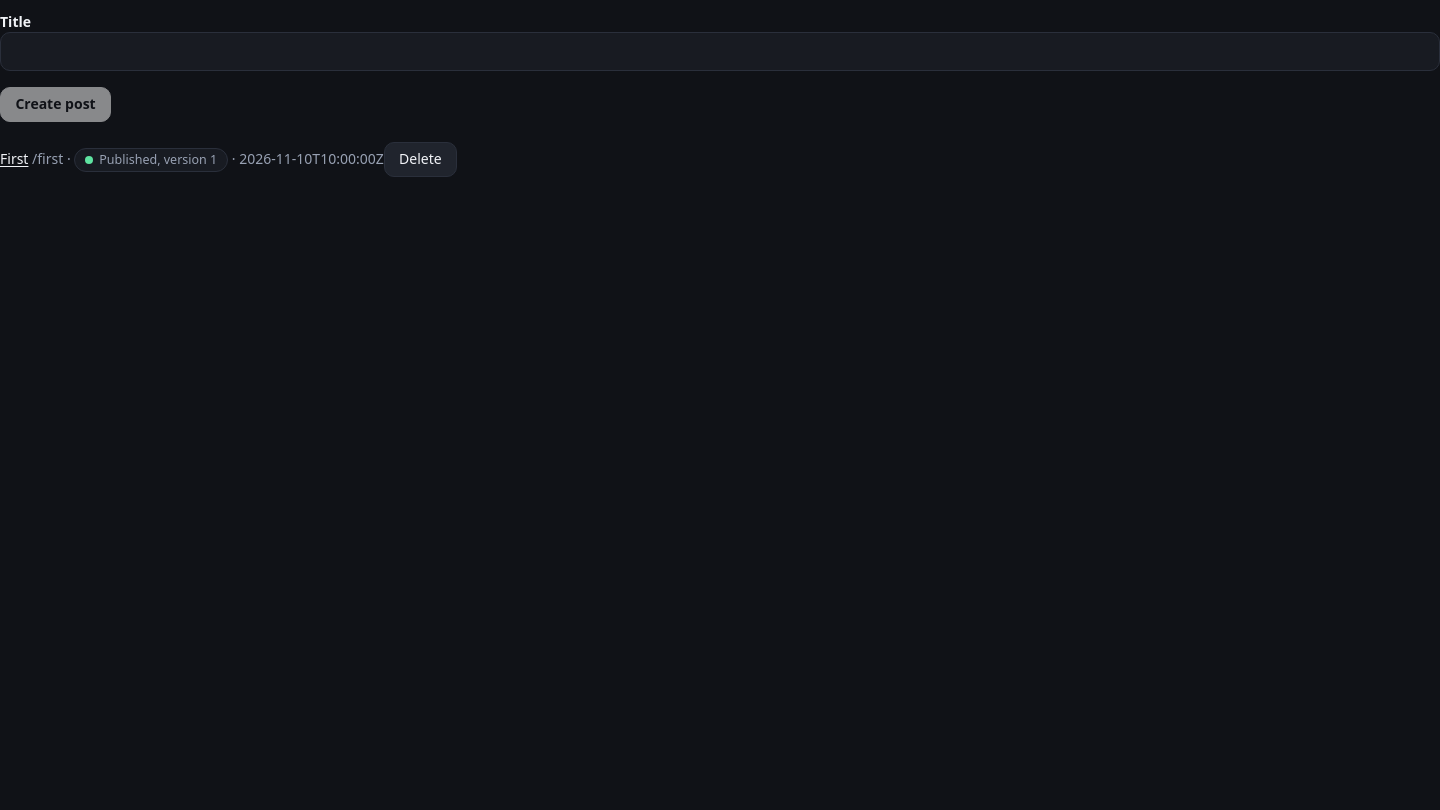
Test case: a post that is published now asks once, in the post dialog, and deletes with confirm
This screenshot has width=1440, height=810.
Click the button with aria-label "Delete First" at (420, 159), box [384,142,457,177]
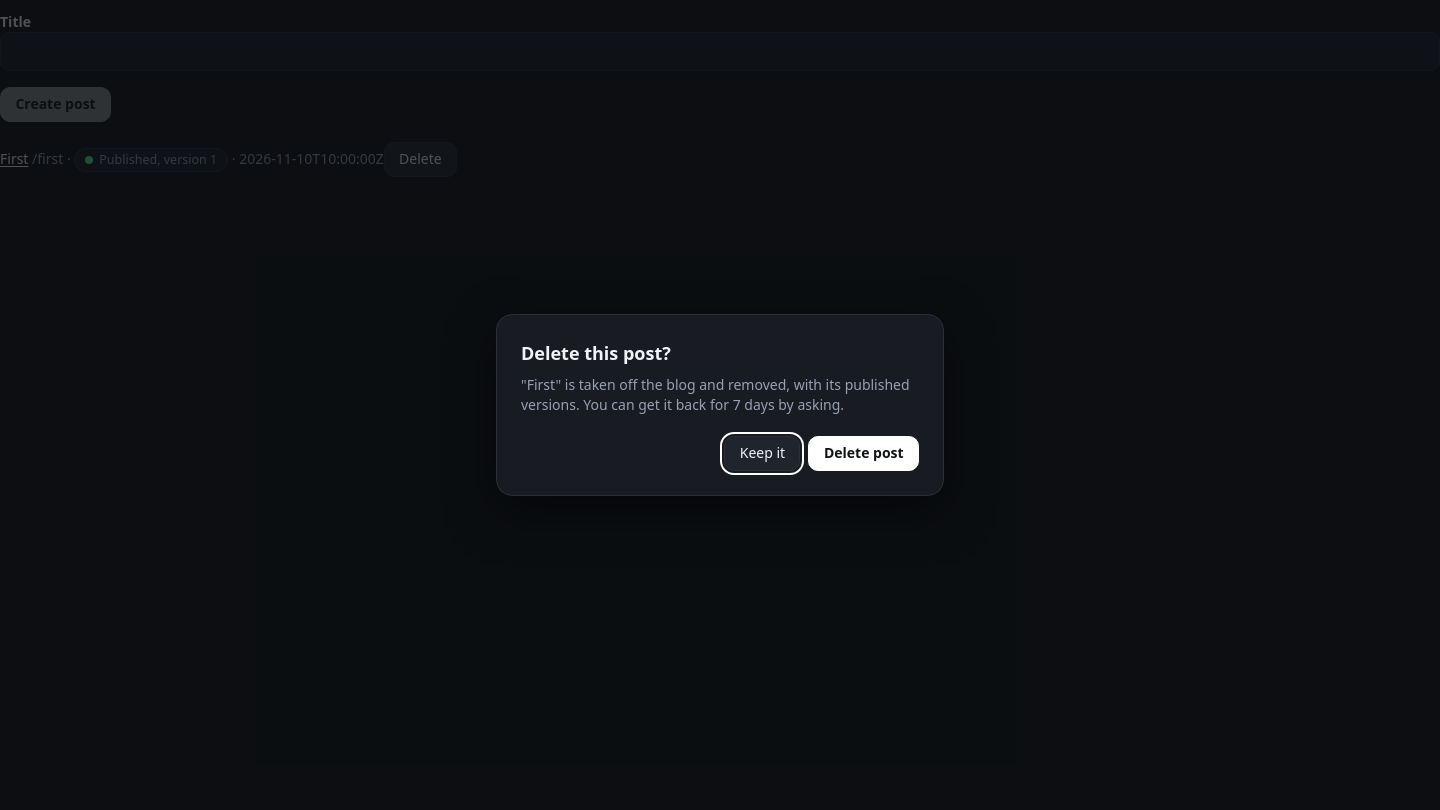
Result: the dialog "Delete this post?" shows "\"First\" is taken off the blog and removed, with its published versions. You can get it back for 7 days by asking." at [521,375,910,414]
Click the button "Delete post" at (864, 453), box [808,436,919,471]
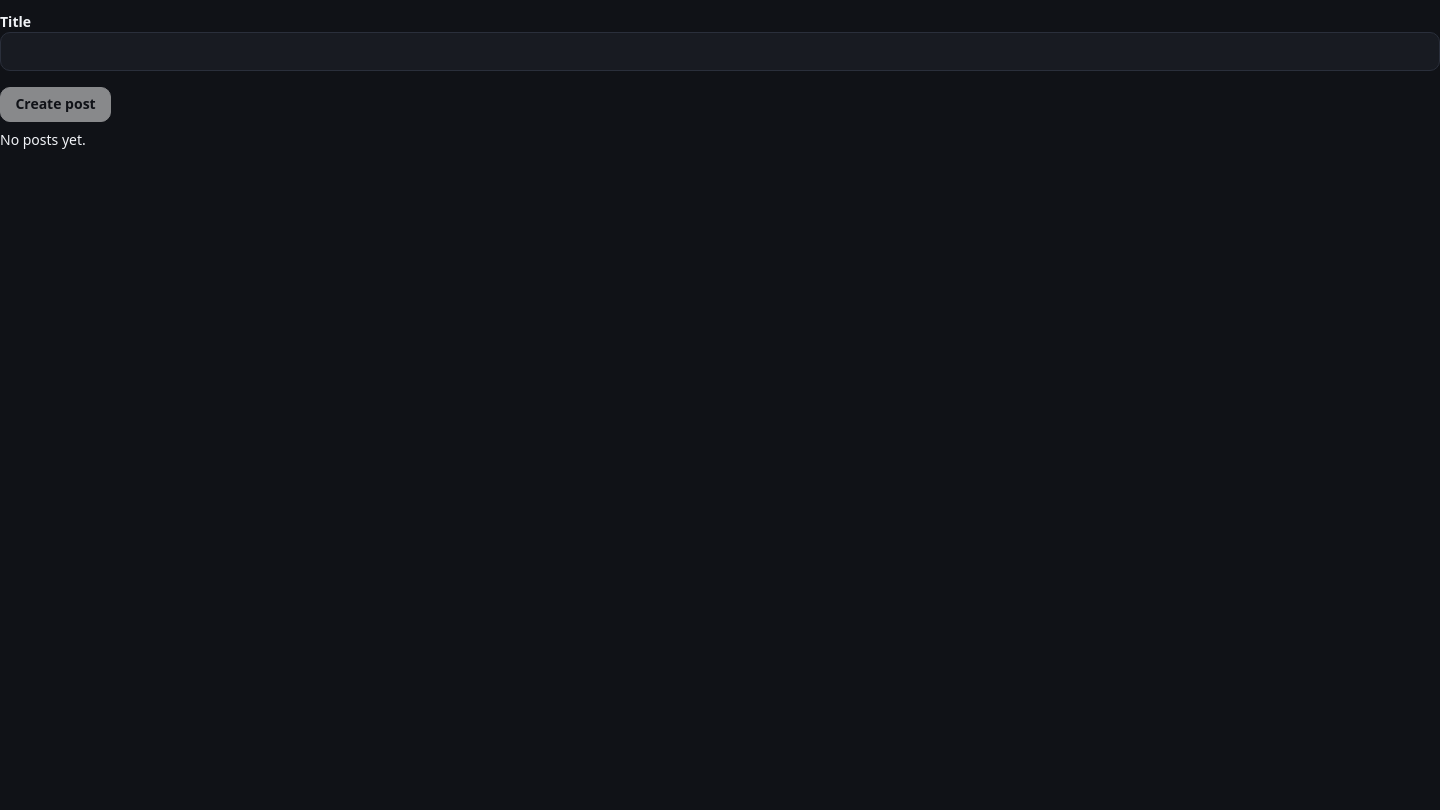
Result: the link "First" is gone
